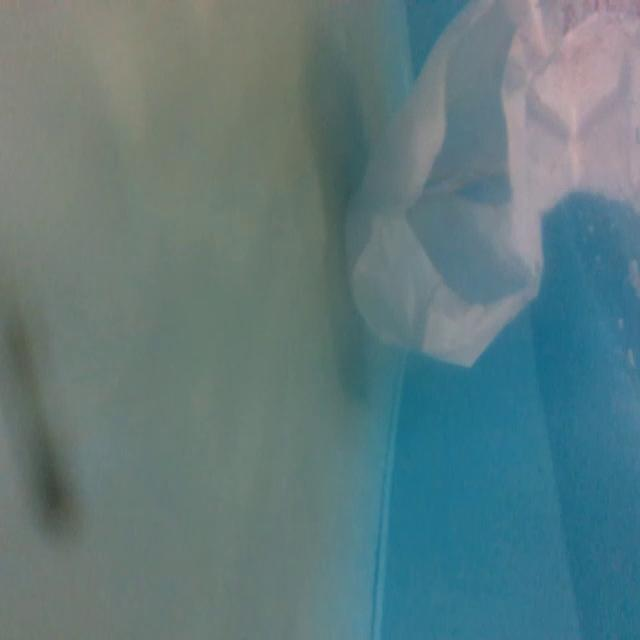plastic bags: (340, 0, 640, 371)
